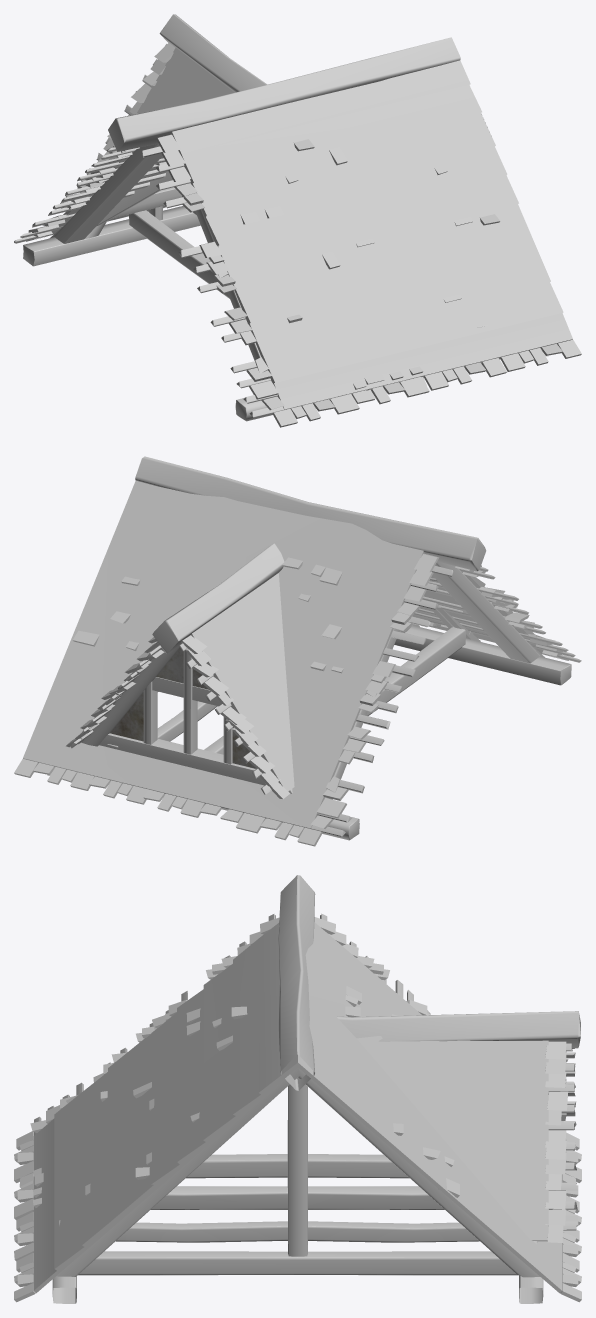
Rendered from SM_RoofWindow01.fbx.
The picture shows the model from 3 angles, top to bottom: view 1: azimuth 30°, elevation 25°; view 2: azimuth 150°, elevation 25°; view 3: azimuth 270°, elevation 25°; orthographic projection. The views are drawn at different scales.
Visible parts, largest first — view 1: SM_RoofWindow01_LOD0; view 2: SM_RoofWindow01_LOD0; view 3: SM_RoofWindow01_LOD0.
Boxes of the visible parts, <box> form: SM_RoofWindow01_LOD0: <box>14,14,581,427</box>; SM_RoofWindow01_LOD0: <box>14,456,581,846</box>; SM_RoofWindow01_LOD0: <box>14,875,581,1303</box>.
Bounding box in the file's own units: 555 × 737 × 356.
